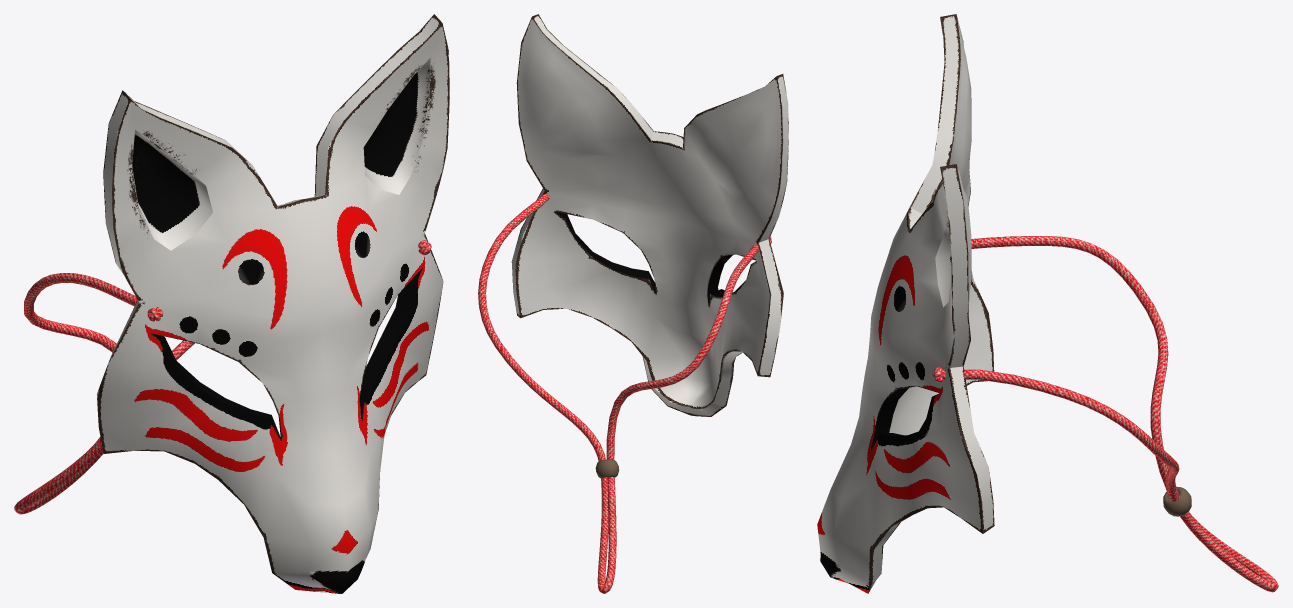
3 renders of one model, left to right at view 1: azimuth 30°, elevation 25°; view 2: azimuth 150°, elevation 25°; view 3: azimuth 270°, elevation 25°, orthographic. The views are drawn at different scales.
Visible parts, largest first — view 1: Mask_LOW; view 2: Mask_LOW; view 3: Mask_LOW.
Boxes of the visible parts, x1,y1,x2,y2 form: Mask_LOW: (14,14,449,593); Mask_LOW: (478,14,788,593); Mask_LOW: (817,14,1278,593).
Size of the model in its own units: 1.29 by 2 by 1.53.
1 material, 1 textured.
